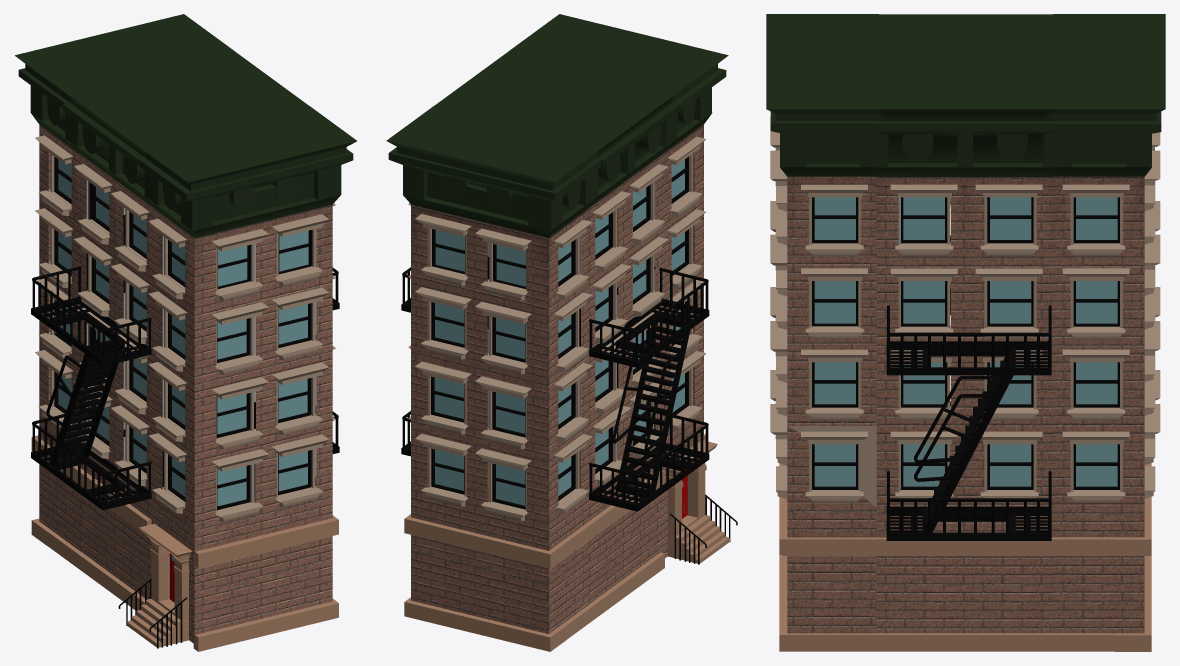
The model's file is NewYorkHouse.fbx.
3 views of the same model, side by side, from view 1: azimuth 30°, elevation 25°; view 2: azimuth 150°, elevation 25°; view 3: azimuth 270°, elevation 25° (orthographic). The views are drawn at different scales.
Parts seen in each view (by area): view 1: Building; view 2: Building; view 3: Building.
Part boxes in pixels (x1,y1,x2,y2): Building: (15,14,356,651); Building: (386,14,737,651); Building: (766,14,1165,651).
Size of the model in its own units: 863 by 1655 by 1090.
9 materials, 1 textured.
